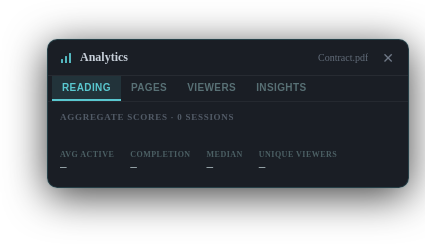
Test case: InsightsModal — Viewers tab › shows empty state for an empty viewers array, does not crash
The width and height of the screenshot is (425, 244).
Click the button "Viewers". click: (212, 88)
box: [177,76,246,101]
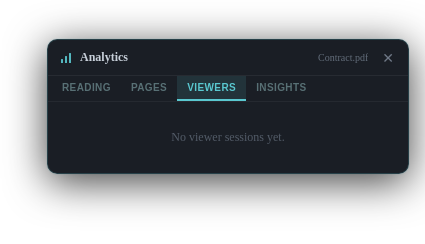
Now the text "No viewer sessions yet." is shown, box [171,130,285,144]
